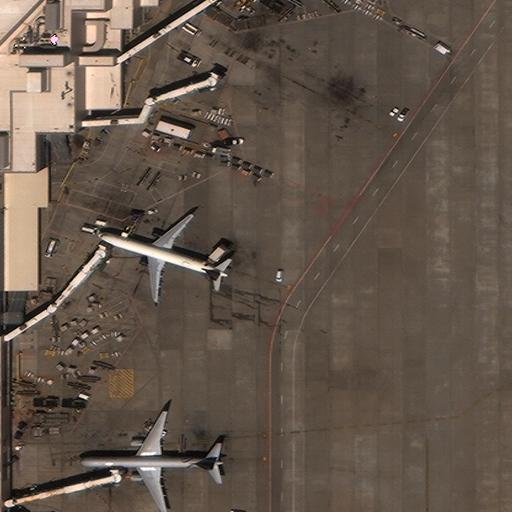Large Civil Transport: (74, 411, 226, 512)
Medium Civil Transport: (93, 213, 228, 301)
